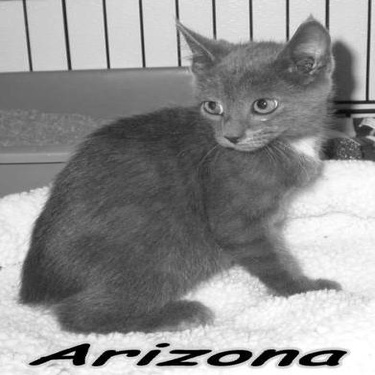cat: (25, 13, 344, 336)
